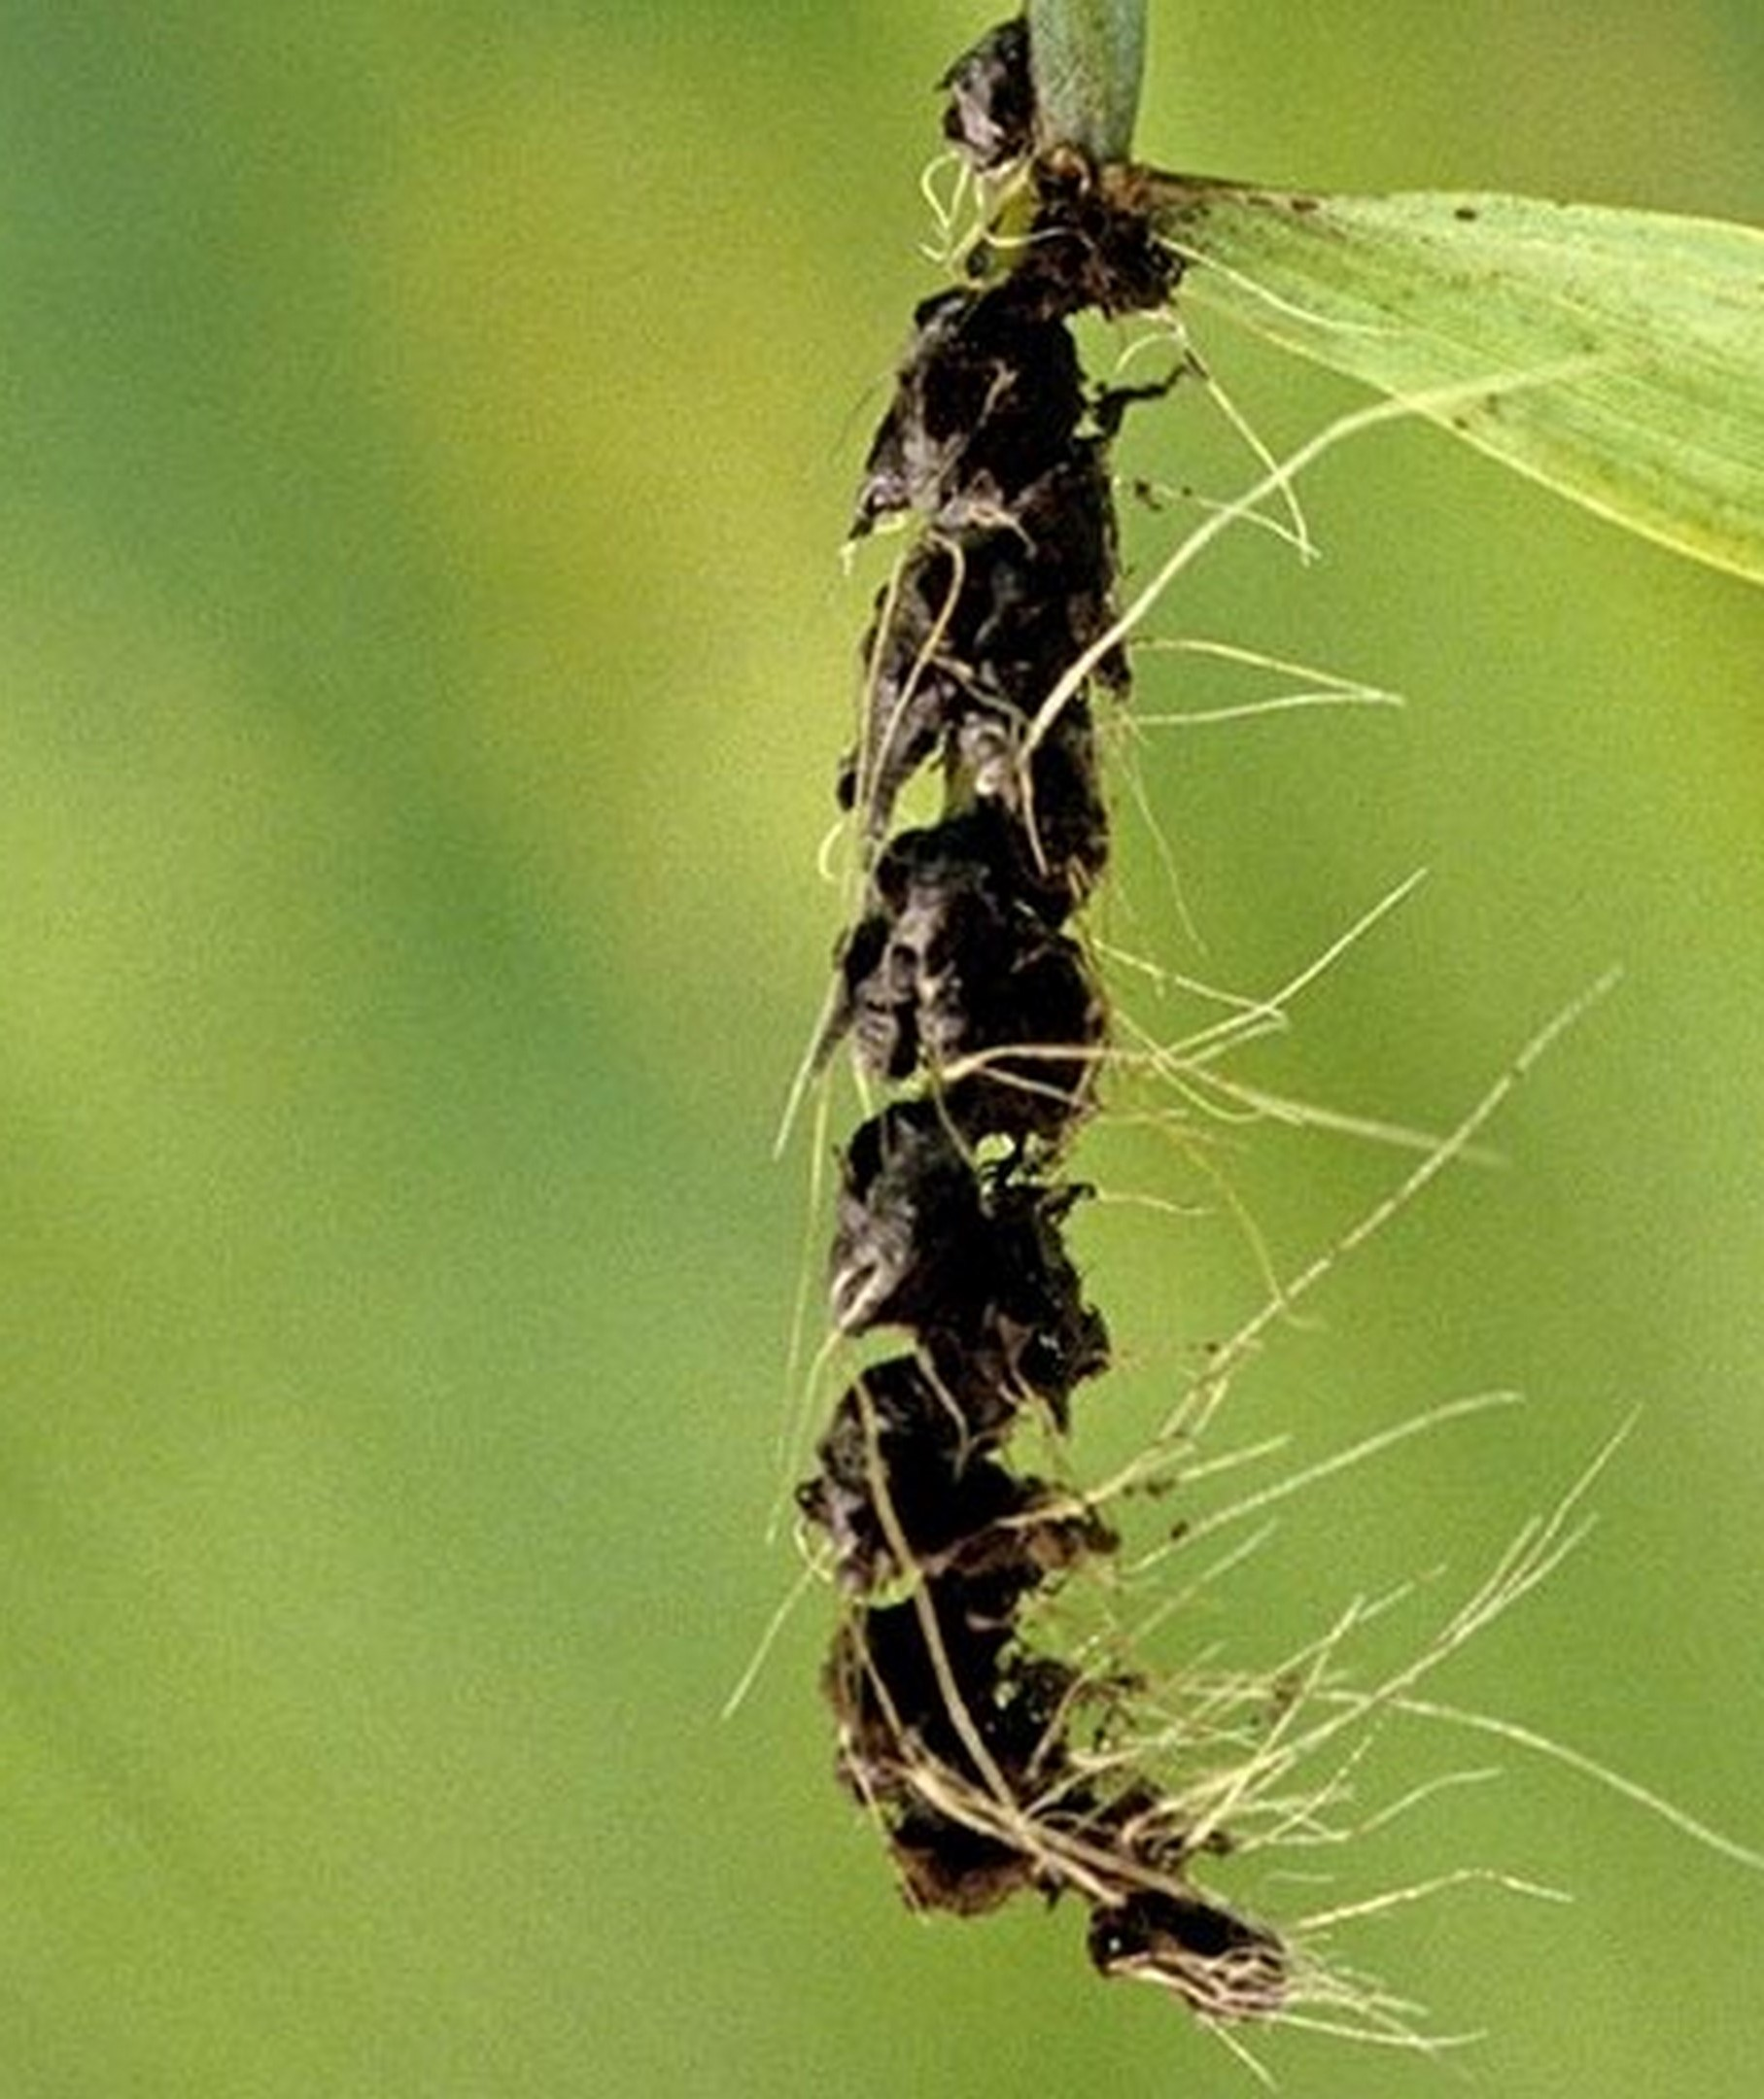Wheat Loose Smut: (765, 217, 1374, 1975)
